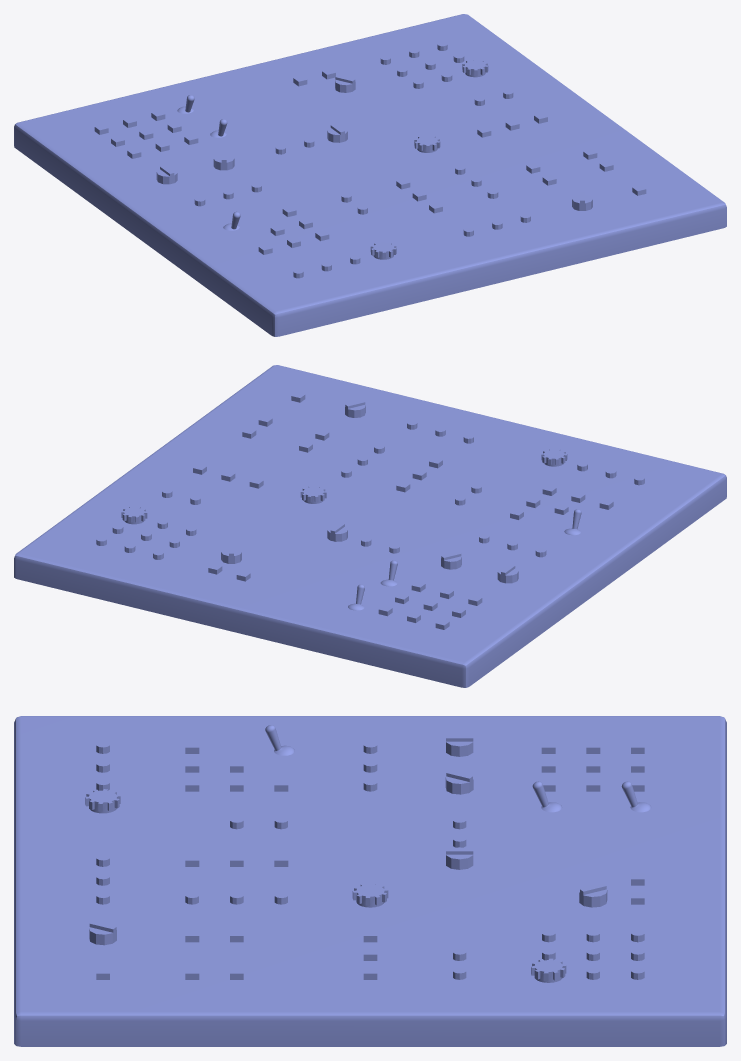
Rendered from Lights_Panel_1.fbx.
The picture shows the model from 3 angles, top to bottom: view 1: azimuth 30°, elevation 25°; view 2: azimuth 150°, elevation 25°; view 3: azimuth 270°, elevation 25°; orthographic projection. The views are drawn at different scales.
Visible parts, largest first — view 1: light_panel_base; view 2: light_panel_base; view 3: light_panel_base, dial_v2_1, dial_v2_2, dial_v2_3, dial_v1_4, dial_v1_2, dial_v1_5, dial_v1_1, dial_v1_3.
Boxes of the visible parts, left/top/right/bottom form: light_panel_base: left=14, top=14, right=726, bottom=336; light_panel_base: left=14, top=365, right=726, bottom=687; light_panel_base: left=14, top=716, right=726, bottom=1046; dial_v2_1: left=352, top=883, right=388, bottom=907; dial_v2_2: left=85, top=789, right=120, bottom=813; dial_v2_3: left=531, top=958, right=566, bottom=982; dial_v1_4: left=579, top=883, right=607, bottom=907; dial_v1_2: left=445, top=770, right=473, bottom=794; dial_v1_5: left=89, top=921, right=116, bottom=945; dial_v1_1: left=446, top=847, right=473, bottom=869; dial_v1_3: left=446, top=734, right=473, bottom=756.
Bounding box in the file's own units: 1 × 0.0893 × 1.
